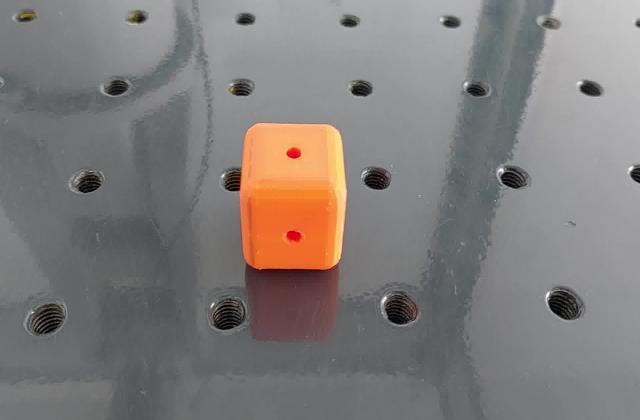cube: (237, 120, 351, 275)
